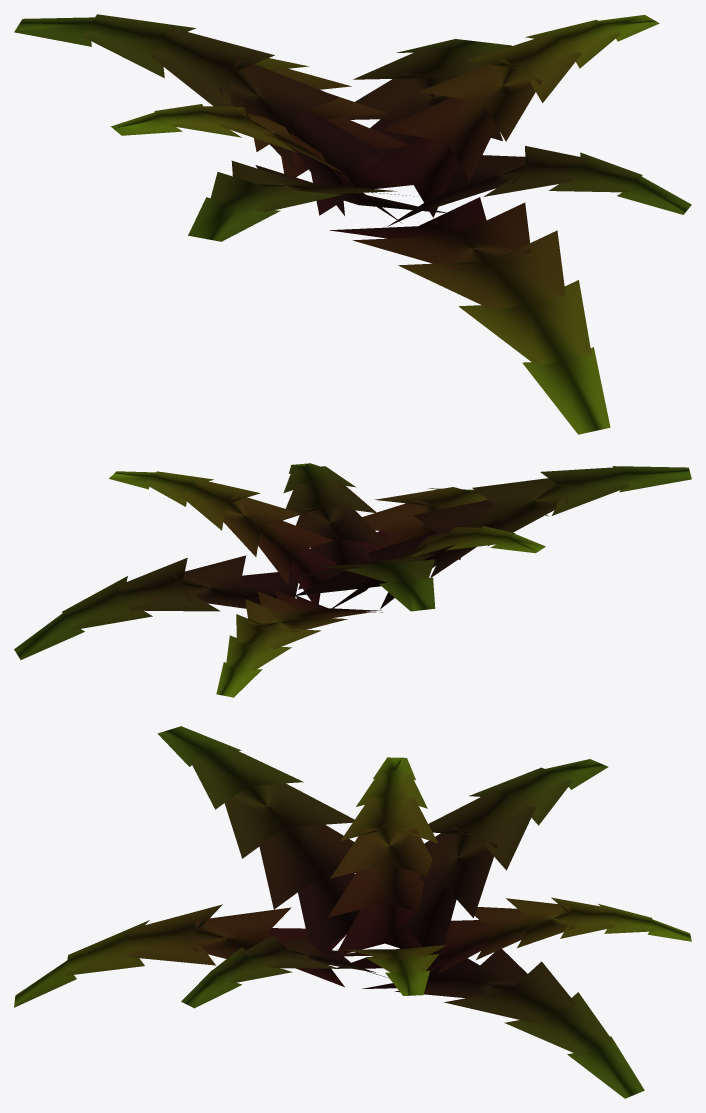
File: fern_c.glb
3 renders of one model, top to bottom at view 1: azimuth 30°, elevation 25°; view 2: azimuth 150°, elevation 25°; view 3: azimuth 270°, elevation 25°, orthographic. The views are drawn at different scales.
Parts seen in each view (by area): view 1: fern_c; view 2: fern_c; view 3: fern_c.
Part boxes in pixels (bbox=[...]): fern_c: bbox=[14, 14, 691, 434]; fern_c: bbox=[14, 463, 691, 697]; fern_c: bbox=[14, 726, 691, 1098].
Bounding box in the file's own units: 2.7 × 0.8478 × 3.23.
Materials: 1 (1 with a texture image).
